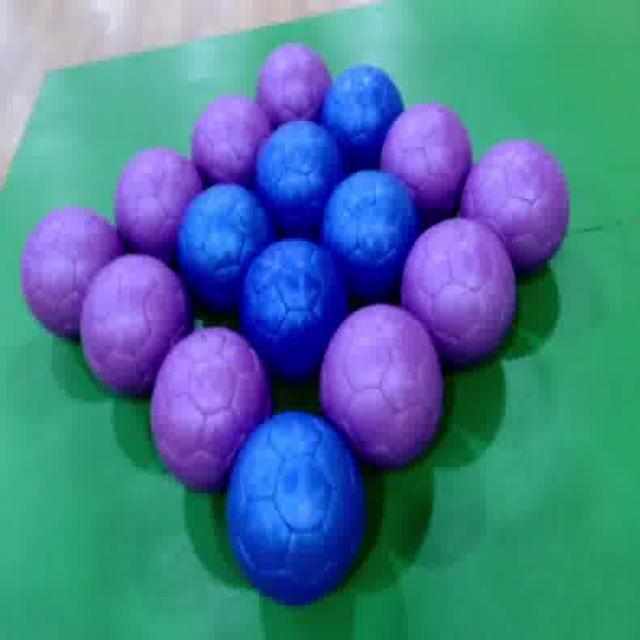blue_ball: (227, 412, 366, 604), (243, 240, 350, 372), (322, 172, 421, 293), (176, 184, 270, 300), (257, 119, 341, 227), (324, 65, 405, 165)
purple_ball: (322, 307, 445, 468), (151, 330, 270, 485), (403, 219, 518, 366), (459, 139, 570, 276), (81, 256, 187, 392), (22, 207, 122, 338), (381, 103, 471, 220), (114, 150, 200, 256), (192, 96, 272, 186), (258, 44, 334, 136)
